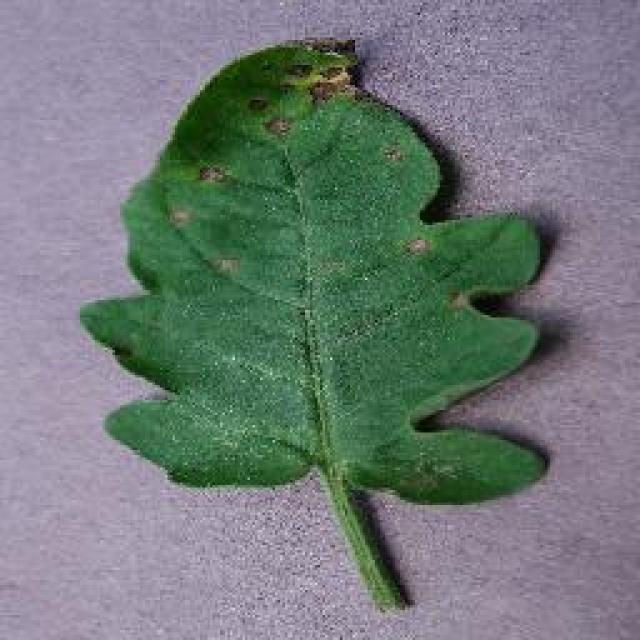Tomato___Septoria_leaf_spot: (80, 40, 542, 605)
